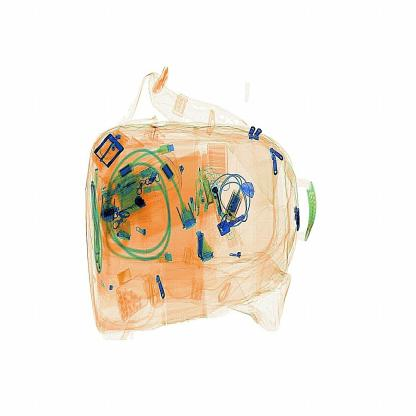knife: (127, 189, 156, 211)
